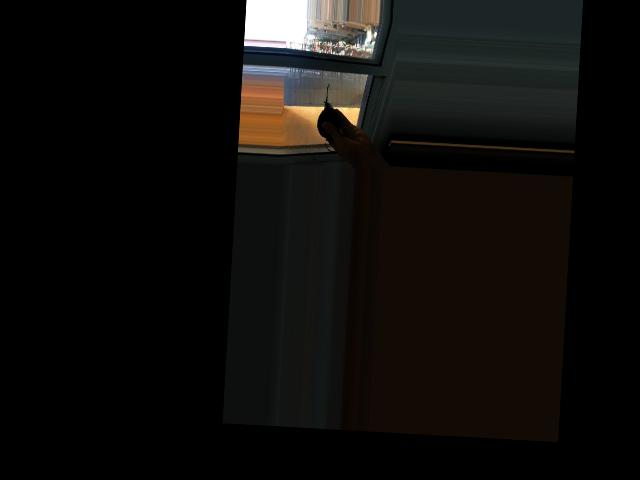beet: (315, 82, 349, 152)
